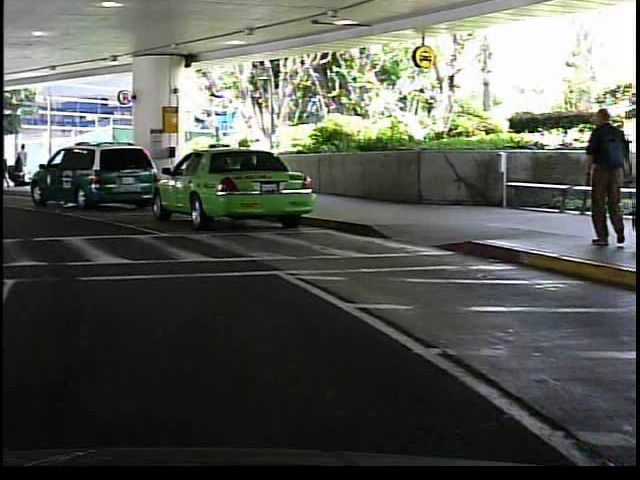person: (568, 101, 634, 260)
